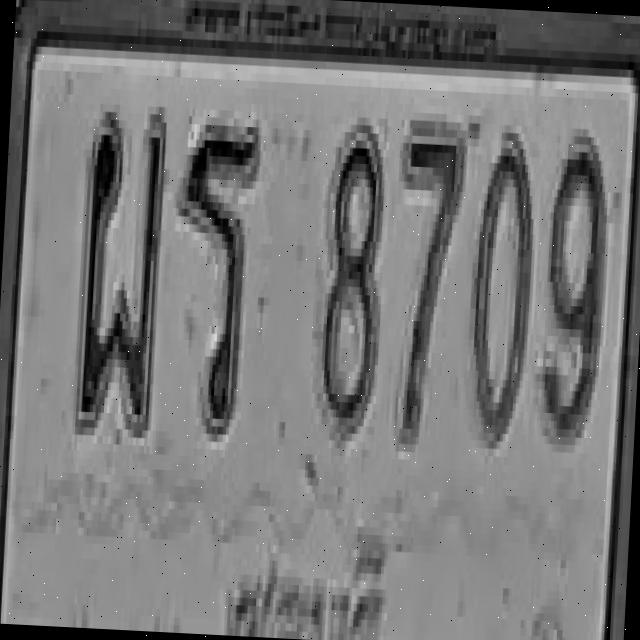0: (464, 128, 538, 446)
37PhorPhueng: (72, 103, 168, 431)
44RorRuea: (168, 120, 260, 432)
7: (388, 124, 466, 442)
8: (316, 128, 388, 438)
9: (538, 131, 610, 442)
